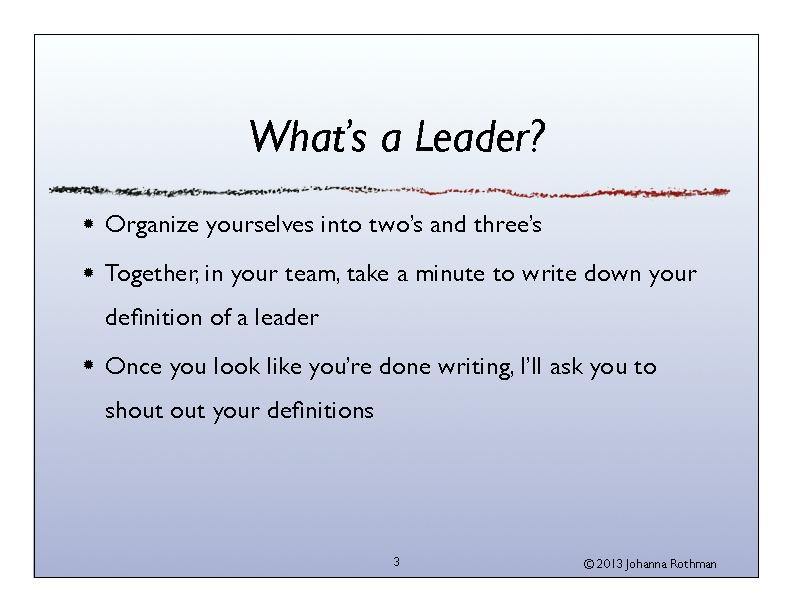paragraph: (57, 205, 729, 448)
title: (234, 91, 564, 177)
